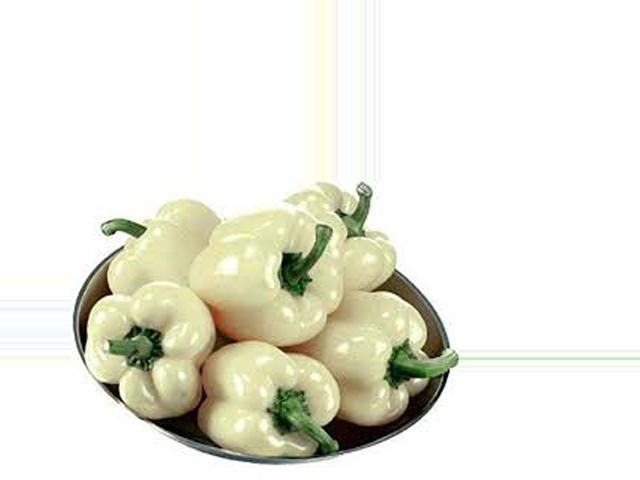bell_pepper: (283, 183, 408, 302)
